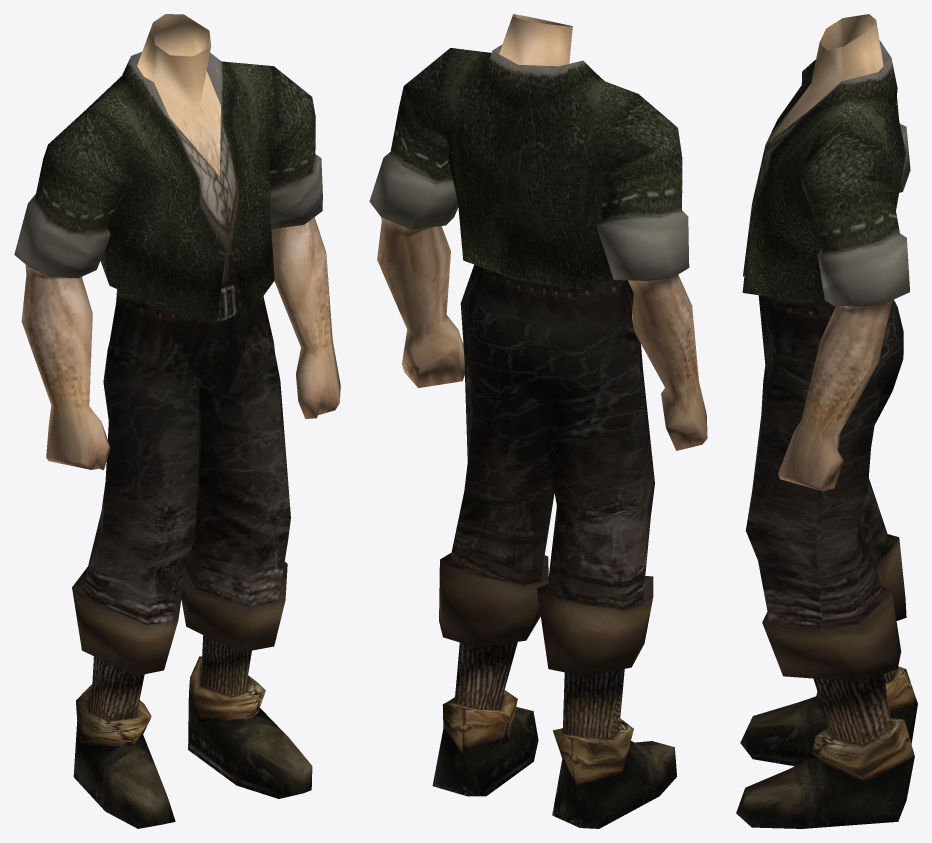
Rendered from KM_BAU_L_02.glb.
The picture shows the model from 3 angles, left to right: view 1: azimuth 30°, elevation 25°; view 2: azimuth 150°, elevation 25°; view 3: azimuth 270°, elevation 25°; orthographic projection. The views are drawn at different scales.
Parts seen in each view (by area): view 1: KM_BAU_L_02; view 2: KM_BAU_L_02; view 3: KM_BAU_L_02.
Boxes of the visible parts, x1,y1,x2,y2 form: KM_BAU_L_02: [14, 14, 340, 828]; KM_BAU_L_02: [369, 14, 707, 828]; KM_BAU_L_02: [736, 14, 917, 828].
Size of the model in its own units: 0.6885 by 1.68 by 0.3618.
Materials: 2 (2 with a texture image).
